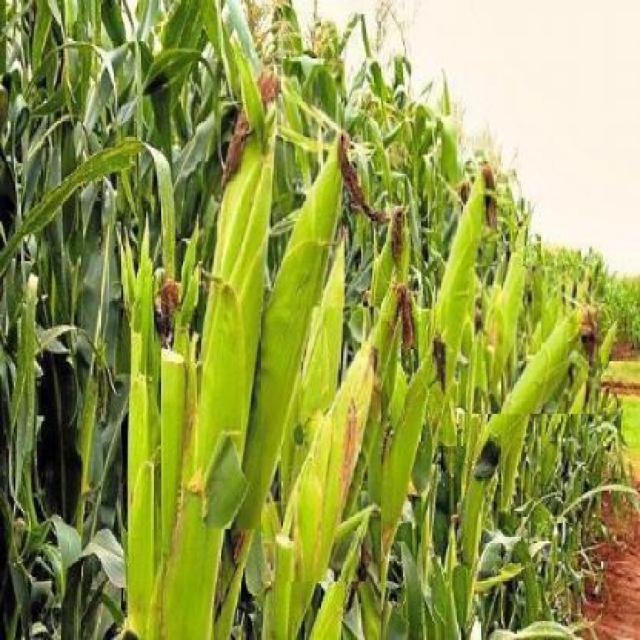Corn: (203, 58, 346, 531), (260, 308, 382, 584), (197, 72, 257, 460), (471, 268, 602, 417), (437, 69, 498, 386)
